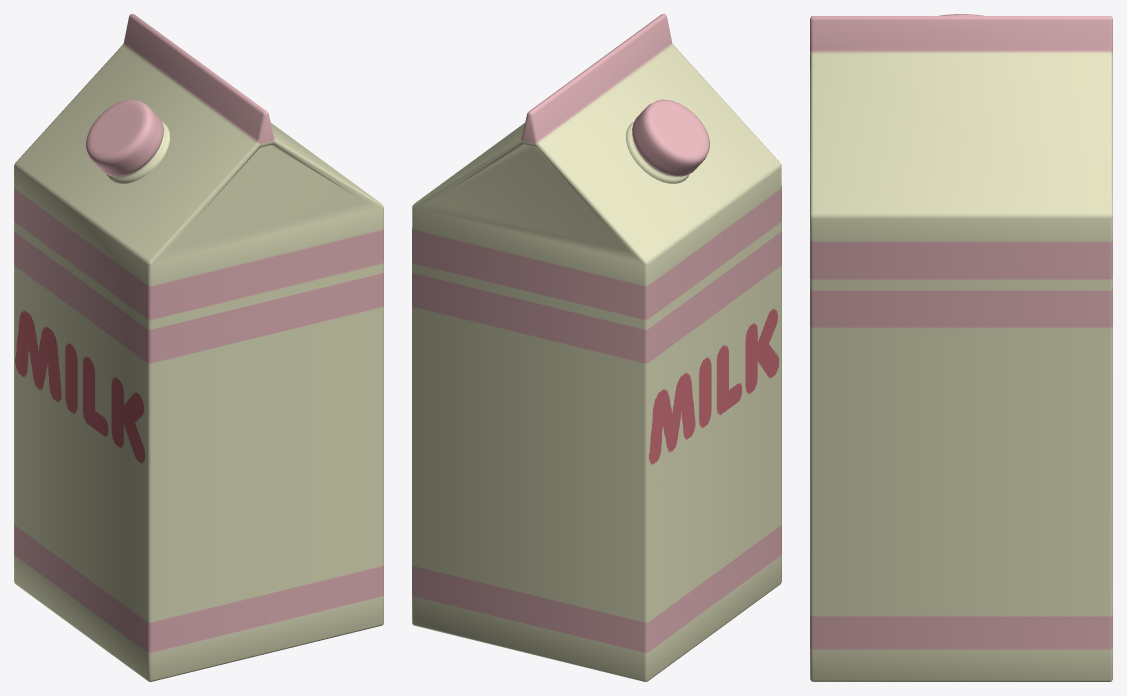
File: milk.fbx
3 views of the same model, side by side, from view 1: azimuth 30°, elevation 25°; view 2: azimuth 150°, elevation 25°; view 3: azimuth 270°, elevation 25° (orthographic). The views are drawn at different scales.
Visible parts, largest first — view 1: Carton, cap; view 2: Carton, cap; view 3: Carton.
Part boxes in pixels (x1,y1,x2,y2): Carton: (14,14,383,681); cap: (86,99,169,183); Carton: (412,14,781,681); cap: (626,99,709,183); Carton: (810,16,1112,681).
Size of the model in its own units: 200 by 439 by 200.
2 materials, 2 textured.
